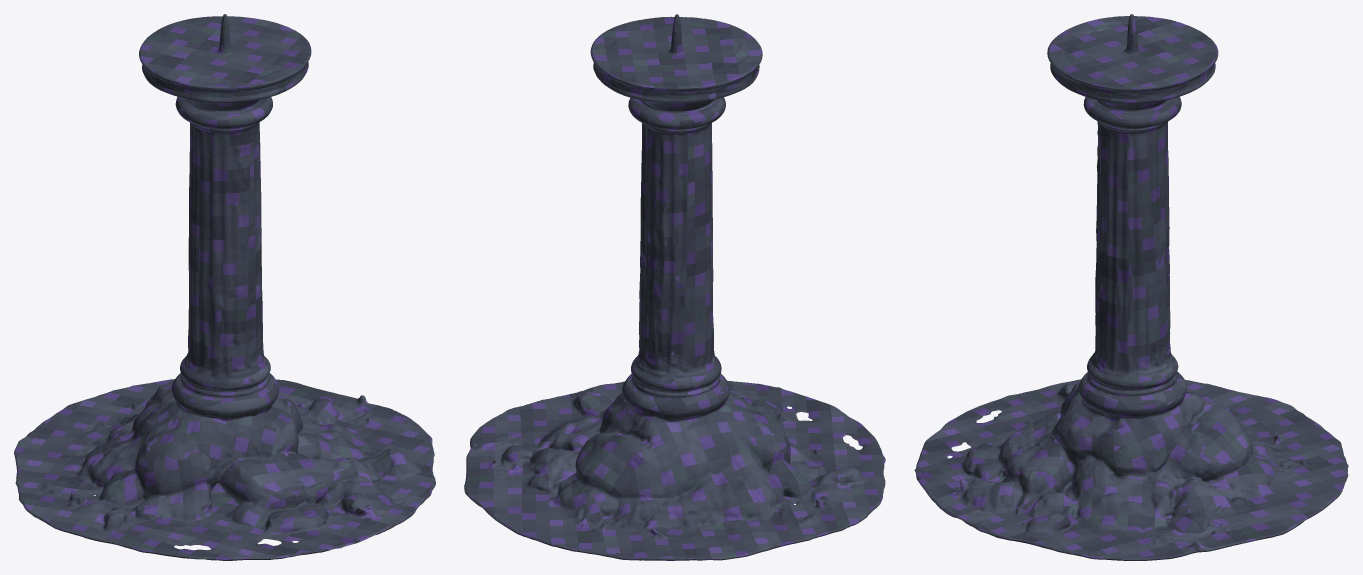
Rendered from weathered-monolith-pillar-generated-2026-04-19T23-33-28-476Z.glb.
The picture shows the model from 3 angles, left to right: view 1: azimuth 30°, elevation 25°; view 2: azimuth 150°, elevation 25°; view 3: azimuth 270°, elevation 25°; orthographic projection.
Visible parts, largest first — view 1: temp_mesh.ply; view 2: temp_mesh.ply; view 3: temp_mesh.ply.
Boxes of the visible parts, x1,y1,x2,y2 form: temp_mesh.ply: [14, 14, 435, 560]; temp_mesh.ply: [464, 14, 885, 560]; temp_mesh.ply: [914, 14, 1348, 560].
Bounding box in the file's own units: 1.73 × 1.97 × 1.71.
1 material, 1 textured.
